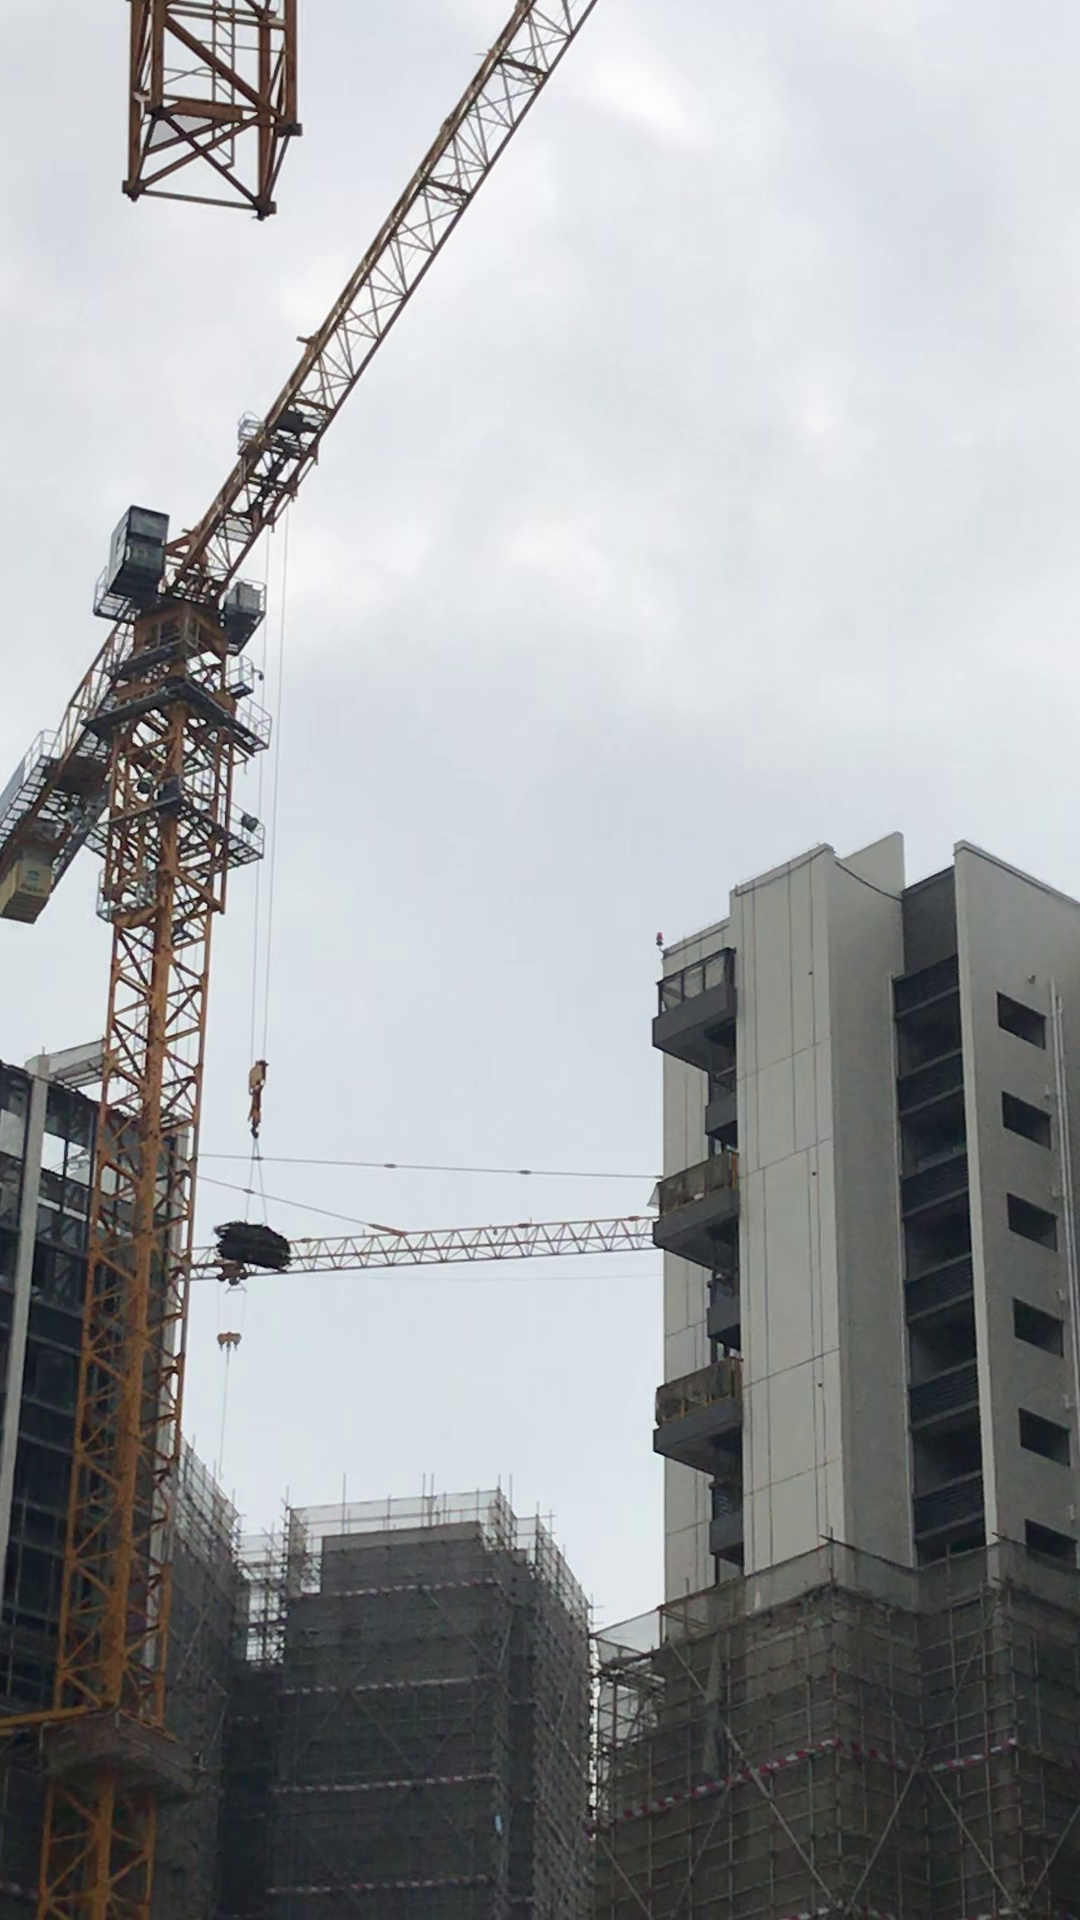board: (214, 1215, 294, 1276)
hook: (239, 1065, 273, 1139), (218, 1332, 243, 1350)
